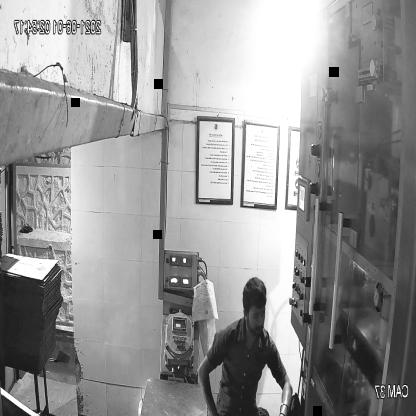no_goggles: (242, 299, 271, 324)
